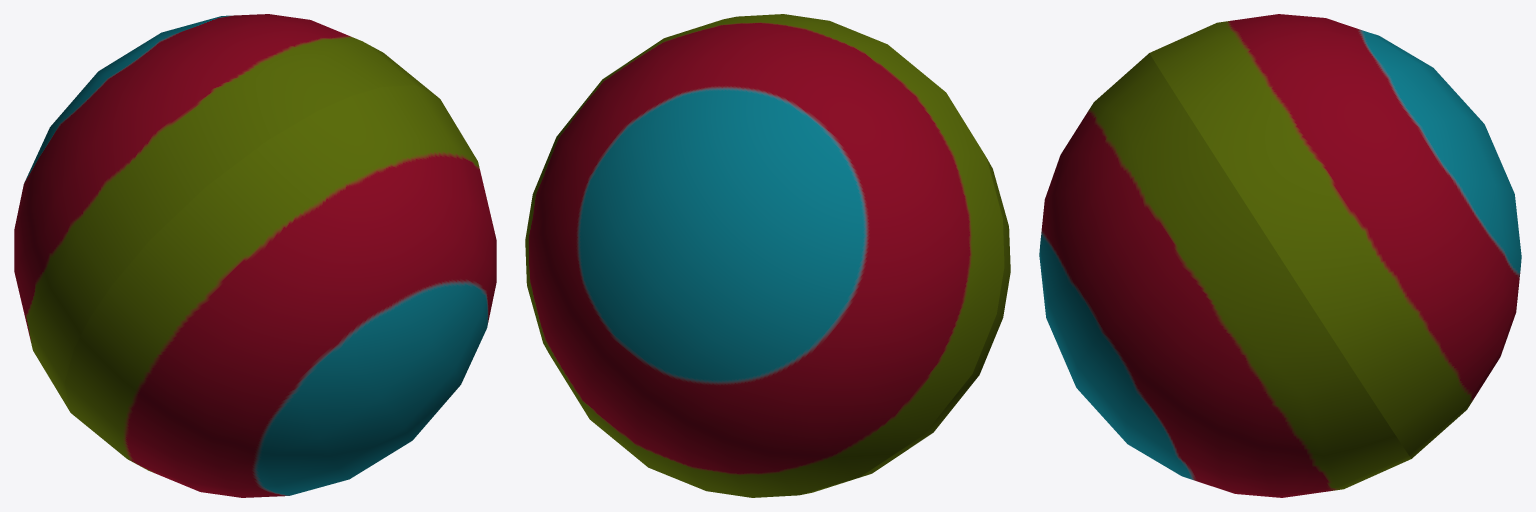
Rendered from KidsBall.FBX.
3 views of the same model, side by side, from view 1: azimuth 30°, elevation 25°; view 2: azimuth 150°, elevation 25°; view 3: azimuth 270°, elevation 25° (orthographic).
Parts seen in each view (by area): view 1: KidsBall_LOD0; view 2: KidsBall_LOD0; view 3: KidsBall_LOD0.
Part boxes in pixels (x1,y1,x2,y2): KidsBall_LOD0: (14,14,496,497); KidsBall_LOD0: (525,14,1010,497); KidsBall_LOD0: (1039,14,1521,497).
Size of what is drawn, in the model's own units: 19.98 by 19.91 by 19.85.
